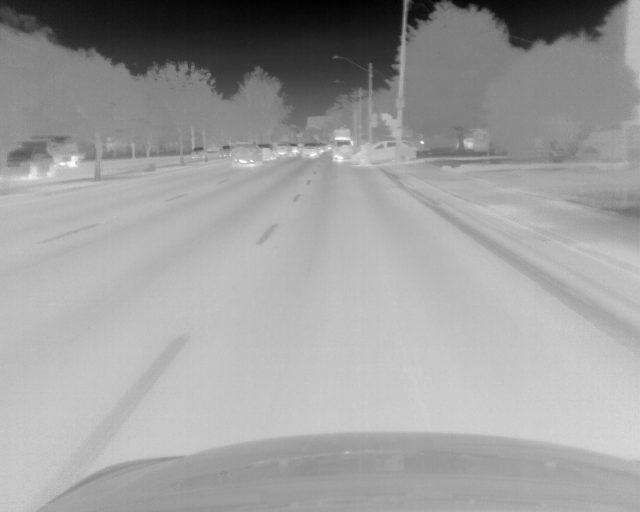car: (353, 138, 432, 167), (3, 143, 56, 182), (38, 136, 85, 170), (330, 128, 353, 166), (232, 142, 263, 168), (301, 141, 318, 161), (258, 144, 276, 162), (277, 142, 291, 160), (217, 144, 231, 158), (191, 147, 206, 160), (317, 142, 327, 154), (291, 143, 299, 157)
